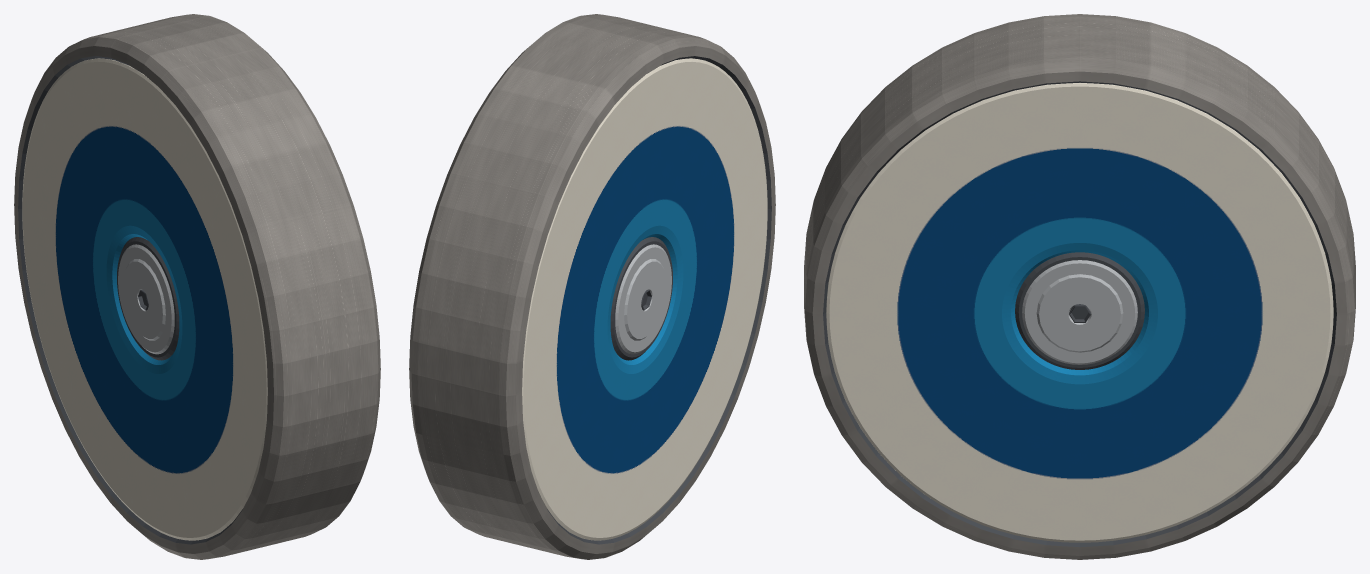
The model's file is transit_disc.glb.
The picture shows the model from 3 angles, left to right: view 1: azimuth 30°, elevation 25°; view 2: azimuth 150°, elevation 25°; view 3: azimuth 270°, elevation 25°; orthographic projection. The views are drawn at different scales.
Visible parts, largest first — view 1: transit_disc_material_batches; view 2: transit_disc_material_batches; view 3: transit_disc_material_batches.
Boxes of the visible parts, x1=… form: transit_disc_material_batches: x1=14, y1=14, x2=380, y2=559; transit_disc_material_batches: x1=409, y1=14, x2=775, y2=559; transit_disc_material_batches: x1=804, y1=14, x2=1355, y2=559.
Size of the model in its own units: 0.3 by 1.28 by 1.28.
Materials: 4 (2 with a texture image).
